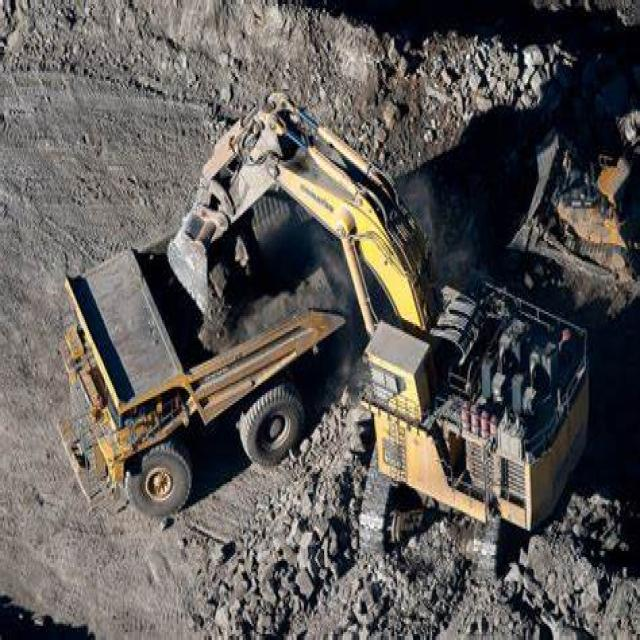dump_truck: (58, 225, 340, 510)
excavator: (164, 105, 604, 571)
